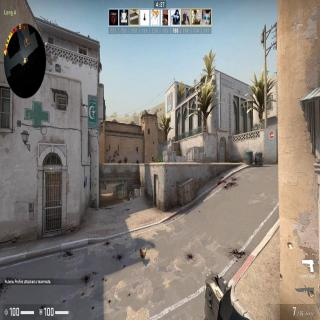CT-Body: (152, 156, 154, 163)
CT-Head: (152, 156, 153, 159)
